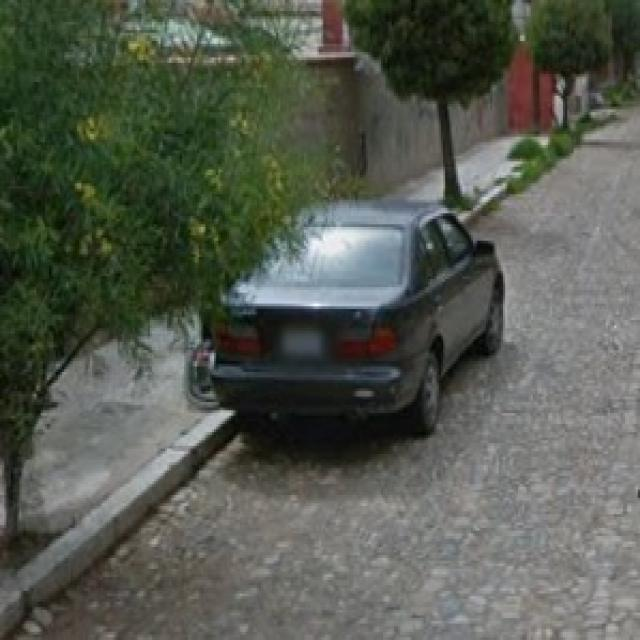cars: (214, 159, 506, 448)
